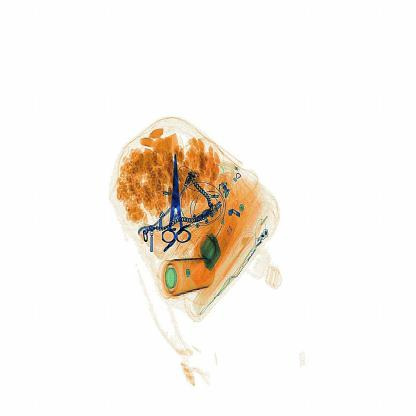gun: (152, 141, 194, 254)
